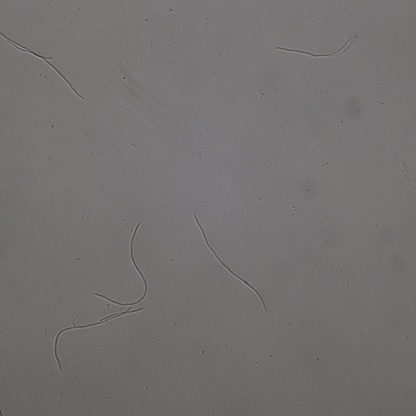Sensitive: (193, 214, 267, 312), (54, 308, 145, 370), (92, 222, 149, 305), (10, 42, 83, 99), (275, 33, 353, 58), (1, 31, 53, 59)
